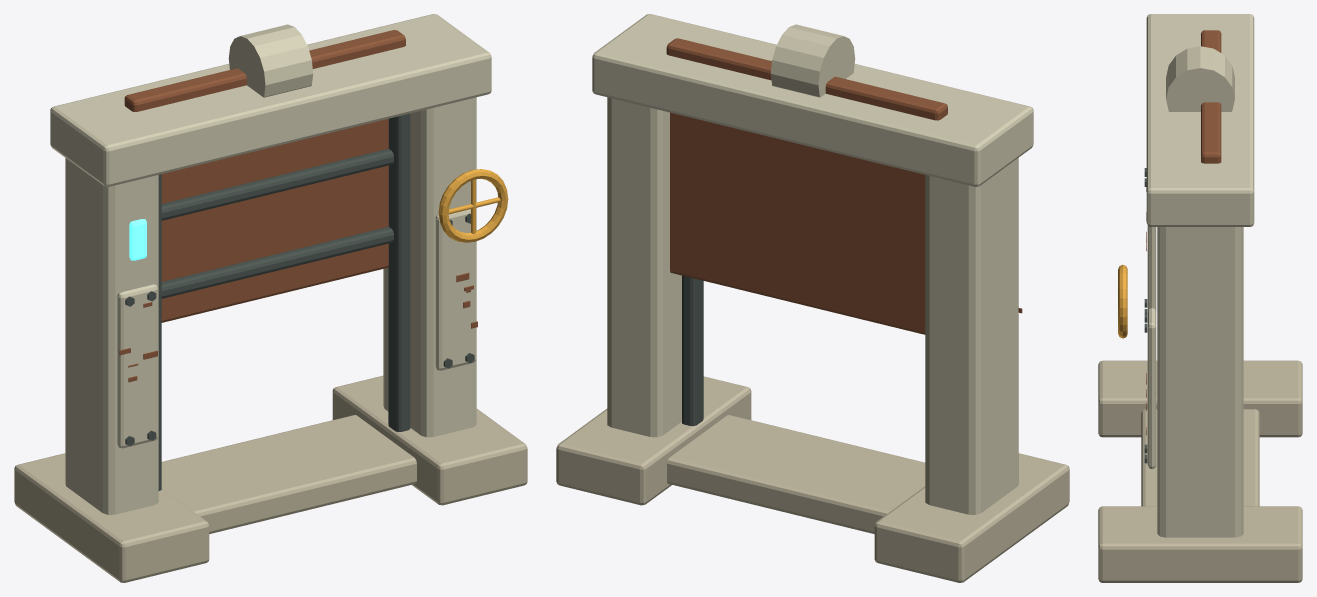
The model's file is Sluice_Gate_Open.glb.
The picture shows the model from 3 angles, left to right: view 1: azimuth 30°, elevation 25°; view 2: azimuth 150°, elevation 25°; view 3: azimuth 270°, elevation 25°; orthographic projection. The views are drawn at different scales.
Parts seen in each view (by area): view 1: Lintel, Gate leaf, Pylon, Sill, Pylon.001, Gate footing, Gate footing.001, Slide rail.001, Pylon inset, Pylon inset.001, Lift motor, Gate rib.001 (+4 smaller); view 2: Gate leaf, Lintel, Pylon, Pylon.001, Sill, Gate footing, Gate footing.001, Lift motor, Slide rail.001; view 3: Pylon.001, Lintel, Gate footing.001, Gate footing, Lift motor, Sill, Gate leaf, Pylon inset.001, Pylon inset, Valve wheel.
Part boxes in pixels (x1,y1,x2,y2): Lintel: (50,14,491,186); Gate leaf: (124,30,405,322); Pylon: (65,158,158,514); Sill: (161,415,416,533); Pylon.001: (383,97,476,437); Gate footing: (14,453,209,582); Gate footing.001: (332,375,527,505); Slide rail.001: (388,113,410,431); Pylon inset: (117,284,157,448); Pylon inset.001: (435,209,476,370); Lift motor: (228,24,313,97); Gate rib.001: (161,148,393,220); Gate leaf: (666,38,947,334); Lintel: (592,14,1033,186); Pylon: (925,158,1018,514); Pylon.001: (607,97,681,437); Sill: (667,415,925,533); Gate footing: (874,453,1069,582); Gate footing.001: (556,376,751,505); Lift motor: (770,24,855,97); Slide rail.001: (682,275,703,426); Pylon.001: (1157,227,1243,537); Lintel: (1146,14,1254,226); Gate footing.001: (1098,506,1302,582); Gate footing: (1098,360,1302,437); Lift motor: (1166,46,1234,111); Sill: (1141,409,1259,506); Gate leaf: (1201,30,1221,163); Pylon inset.001: (1147,308,1156,468); Pylon inset: (1147,226,1156,311); Valve wheel: (1118,264,1127,338).
Bounding box in the file's own units: 4.1 × 4.45 × 1.9.
